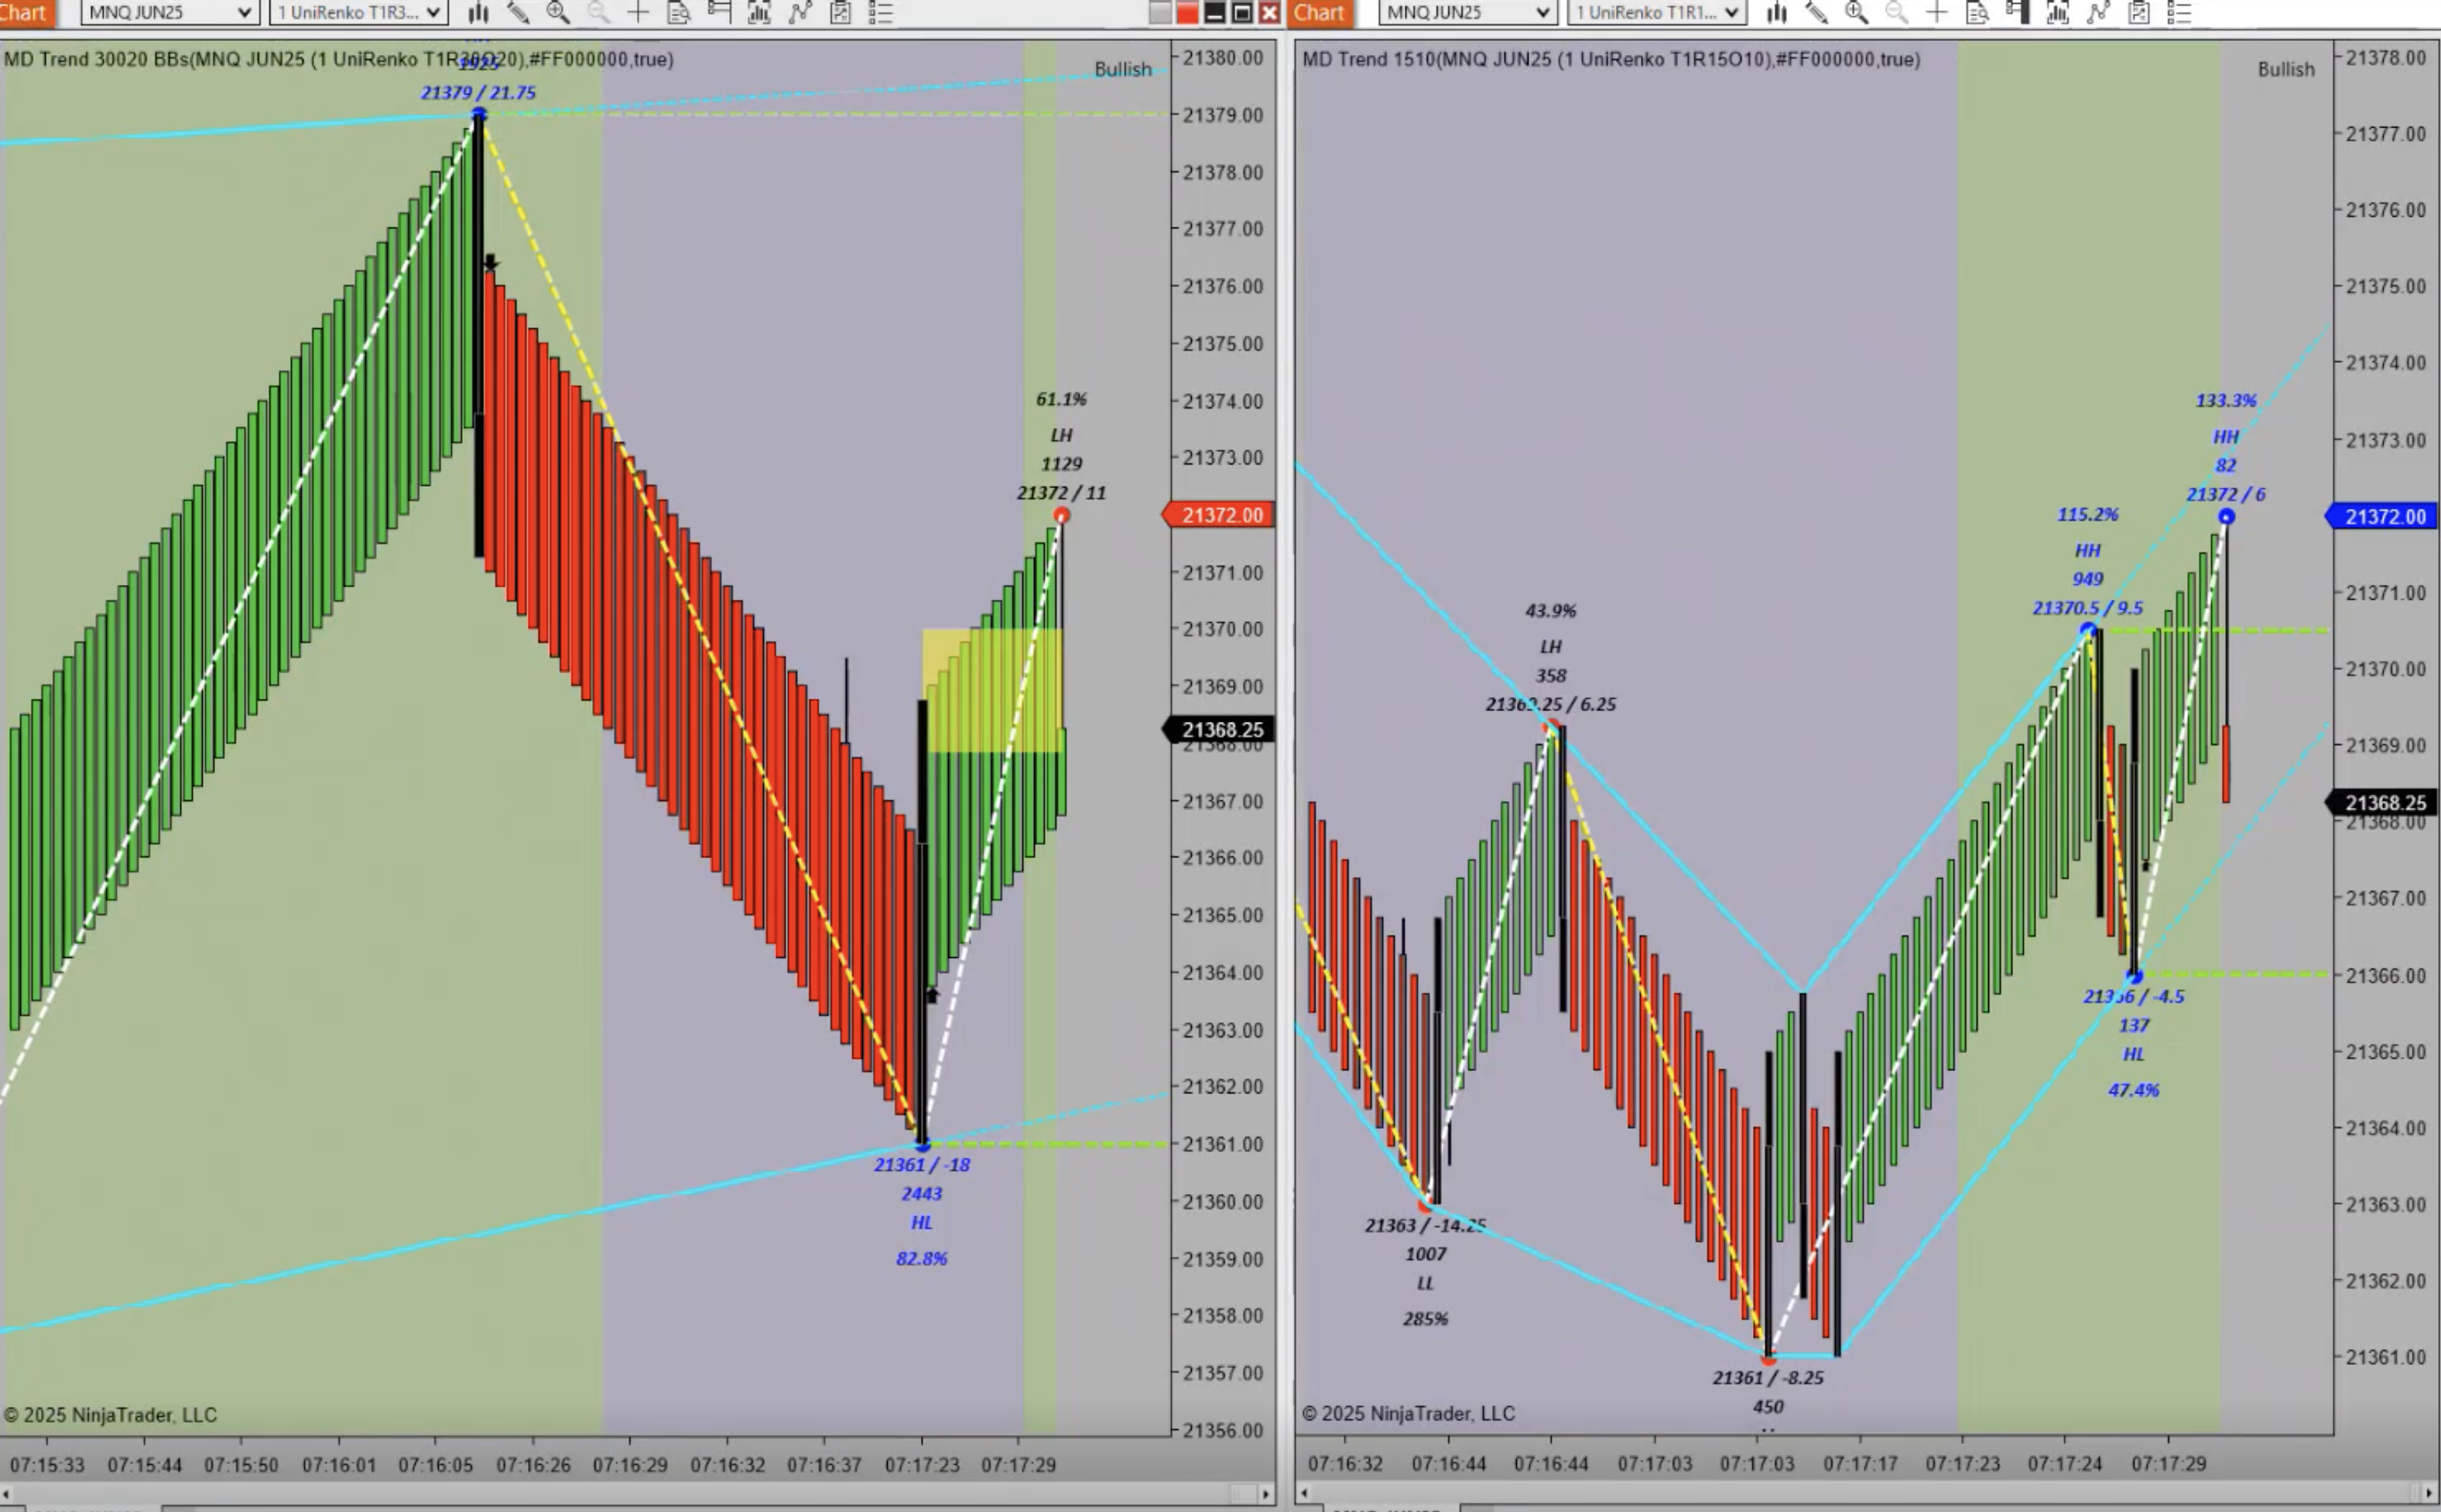candle: (466, 103, 499, 572), (914, 694, 938, 1151), (1550, 717, 1585, 1032), (1758, 1046, 1785, 1371), (1428, 909, 1454, 1202), (2127, 661, 2150, 959), (1834, 1052, 1855, 1360), (2089, 630, 2110, 928), (1796, 984, 1813, 1304)
